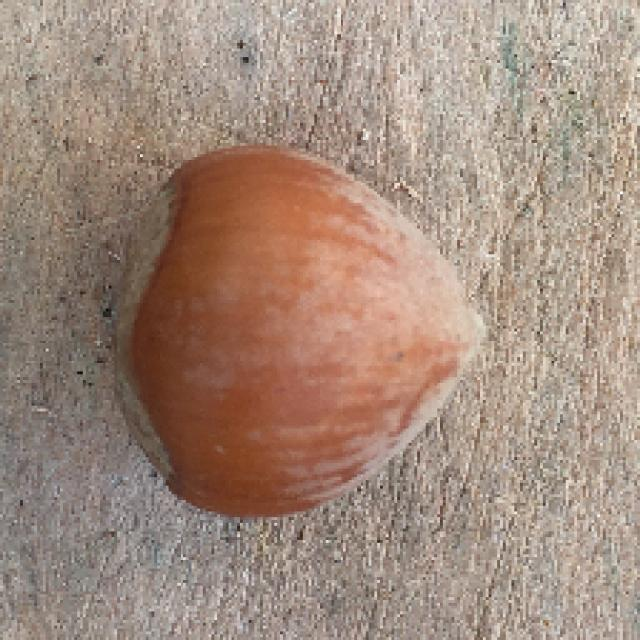qualityHazelnut: (106, 145, 477, 520)
